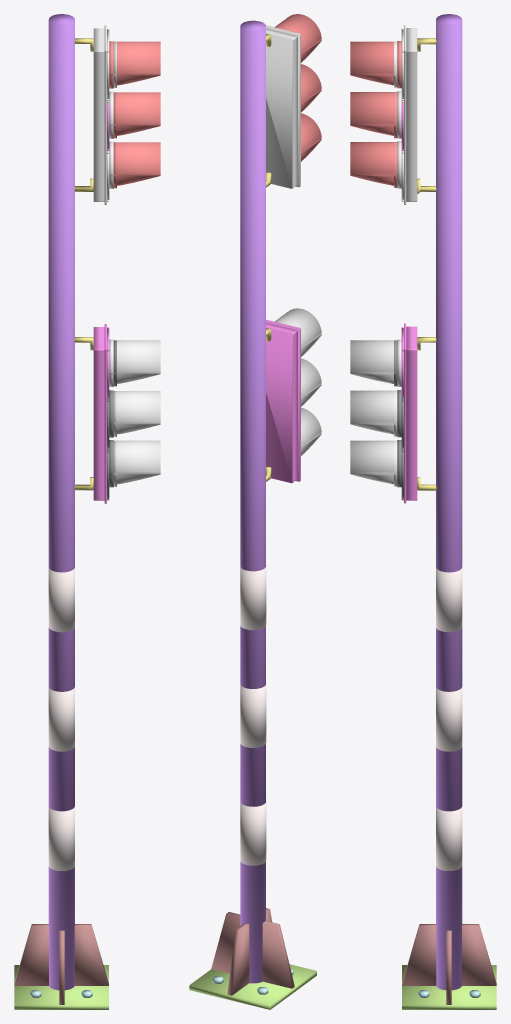
File: street_light.fbx
3 renders of one model, left to right at view 1: azimuth 90°, elevation 25°; view 2: azimuth 150°, elevation 25°; view 3: azimuth 270°, elevation 25°, orthographic.
Parts seen in each view (by area): view 1: light; view 2: light; view 3: light.
Part boxes in pixels (bbox=[...]): light: bbox=[14, 14, 160, 1009]; light: bbox=[189, 14, 321, 1009]; light: bbox=[350, 14, 496, 1009].
Size of the model in its own units: 85.23 by 960 by 131.
